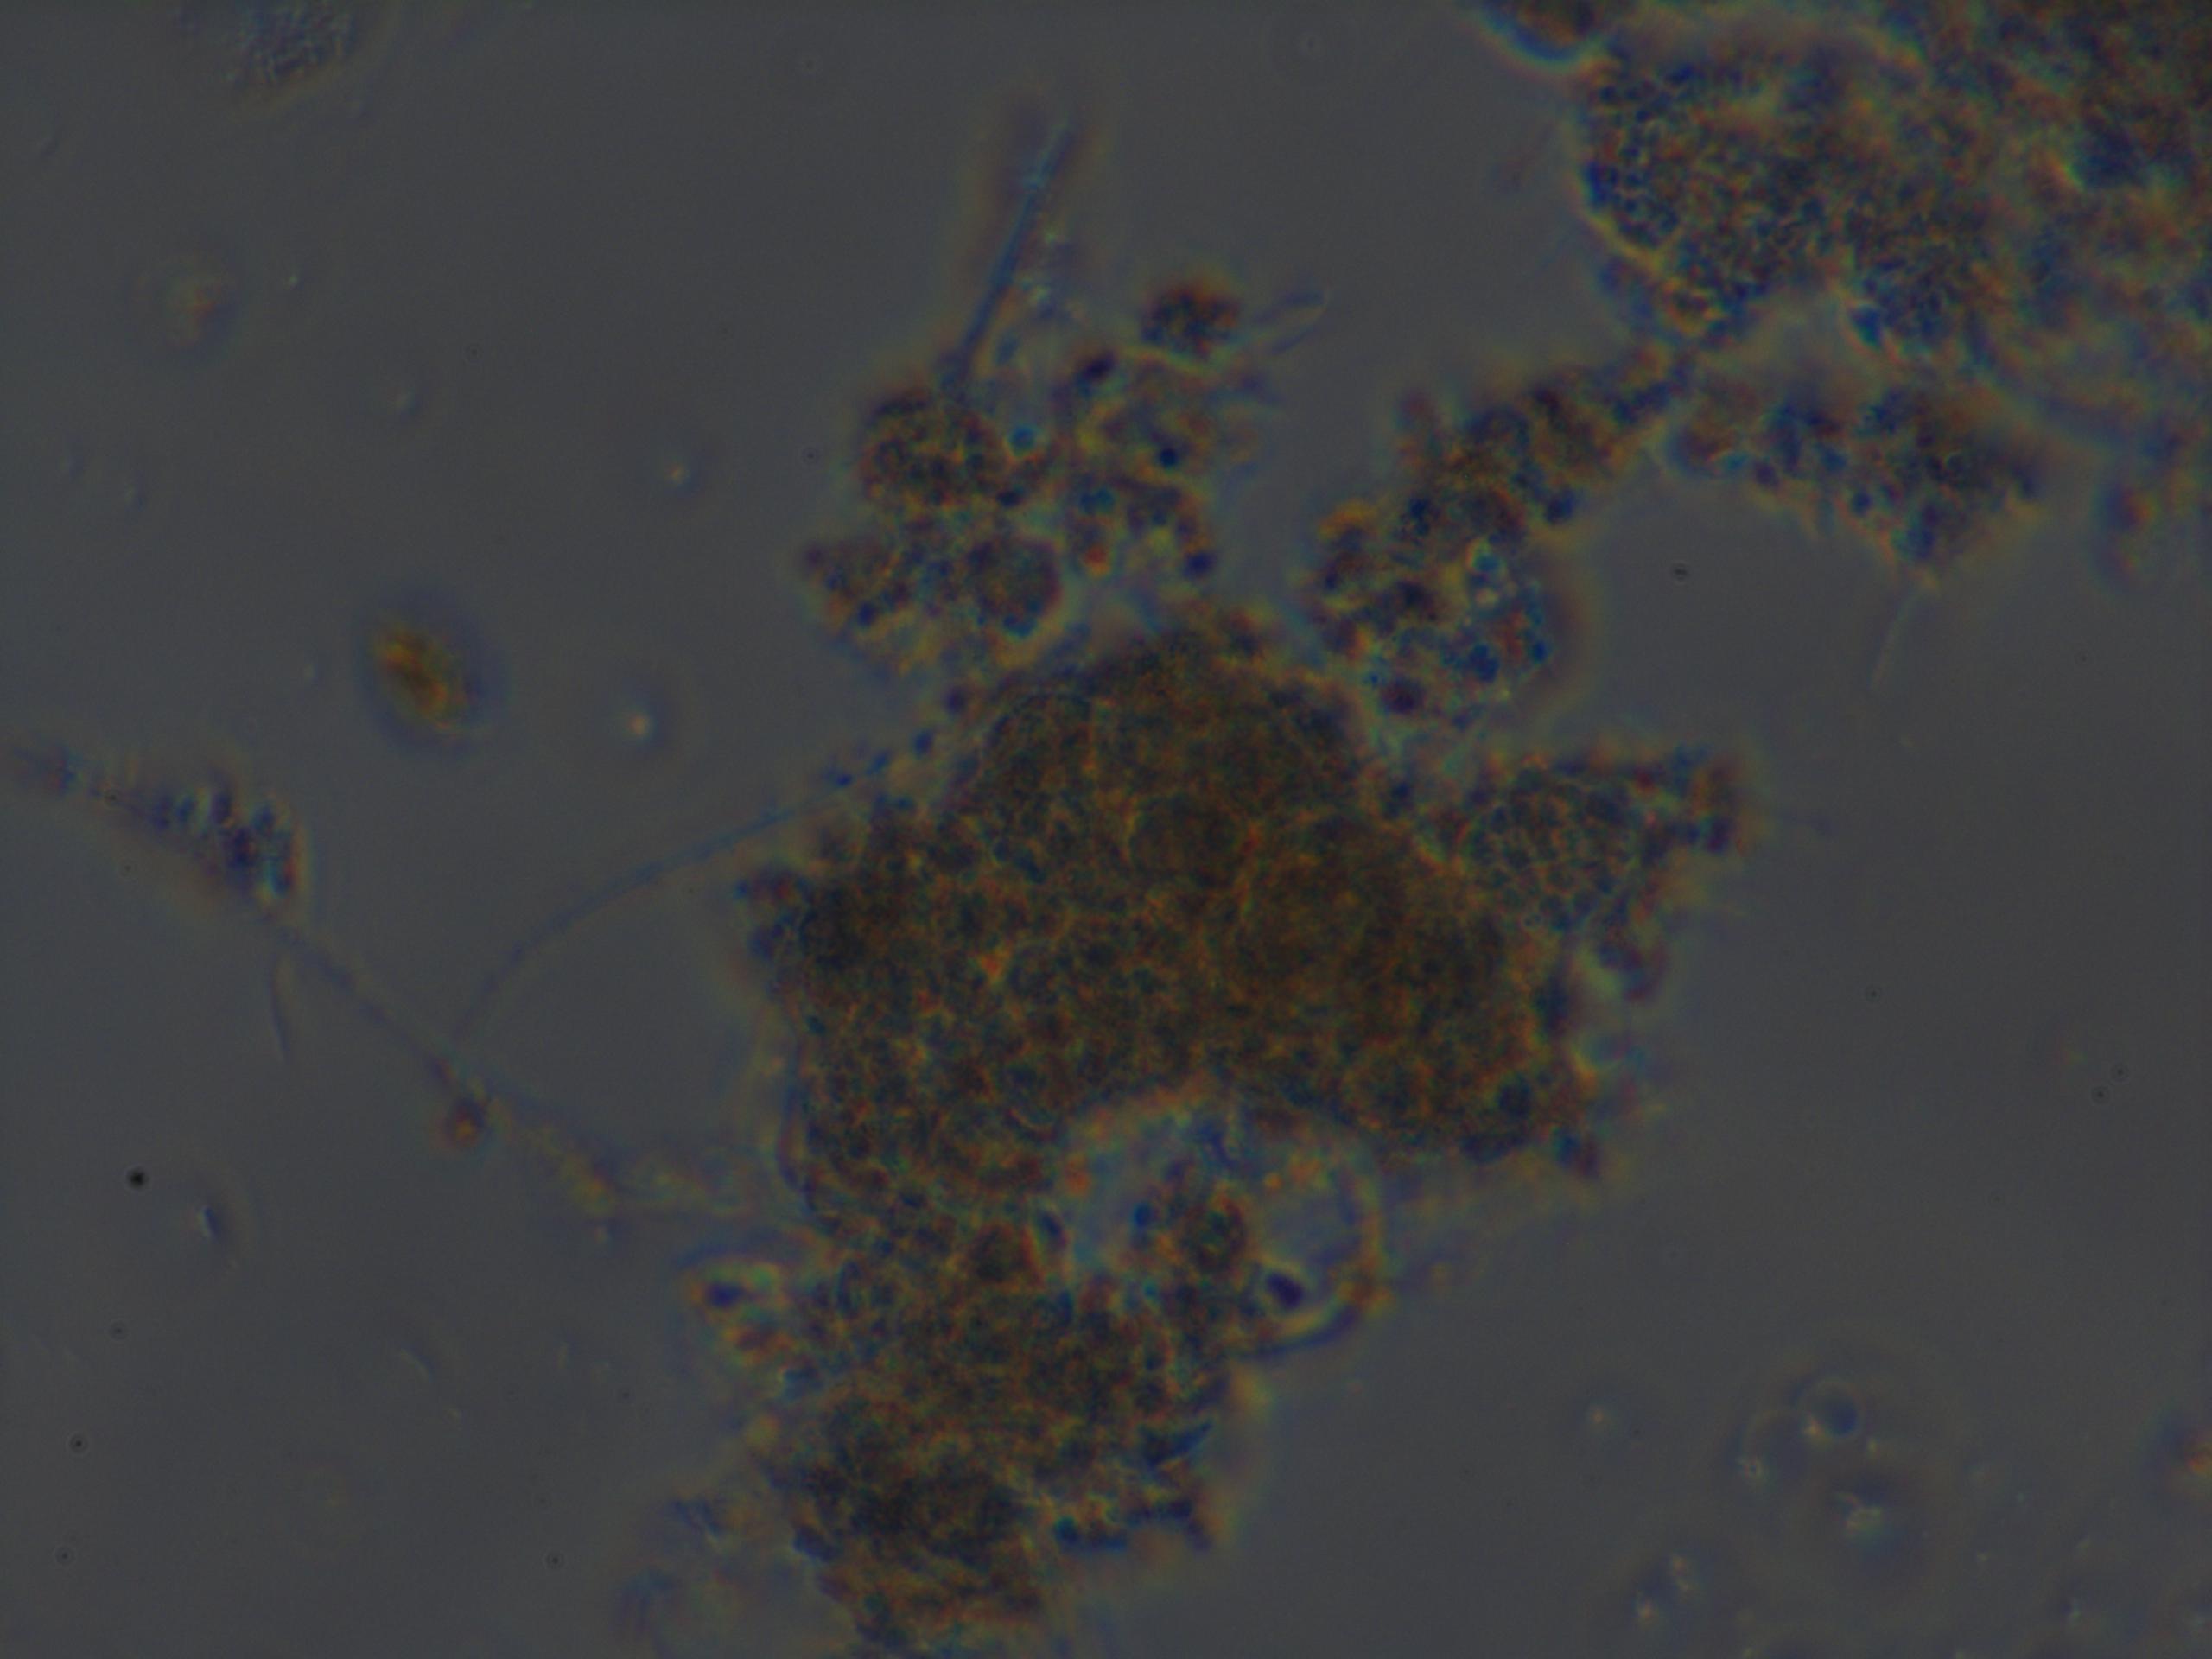filament: (42, 765, 617, 1229), (448, 746, 864, 1063), (927, 106, 1087, 394)
